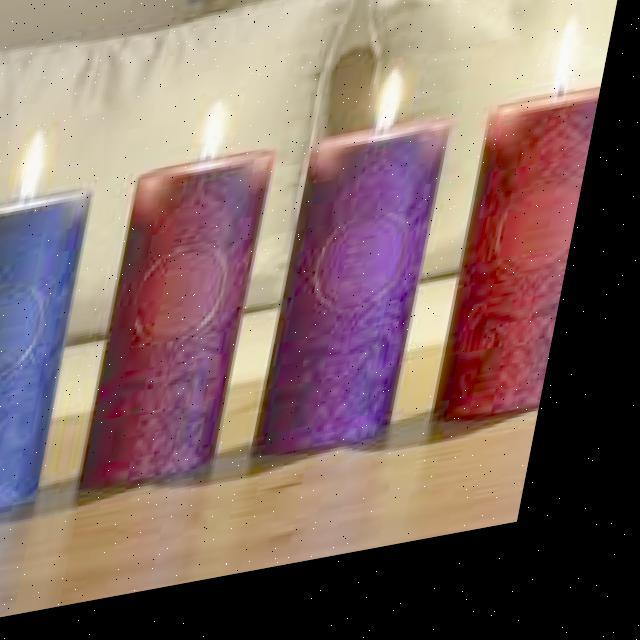Fire: (540, 37, 598, 126), (368, 78, 419, 158), (14, 128, 58, 215), (195, 99, 238, 178)
